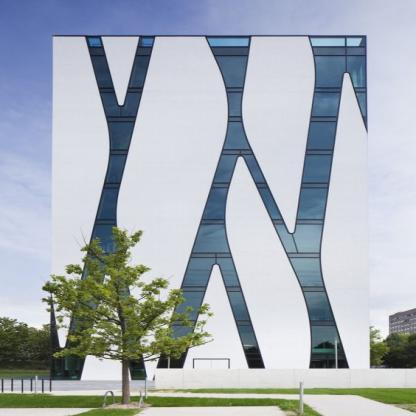Balcony: (53, 36, 367, 47)
Building Outline: (49, 32, 370, 382)
Door: (194, 359, 230, 381)
Facade: (50, 32, 371, 382)
Floor Slab: (52, 353, 370, 358), (52, 286, 369, 291), (52, 219, 368, 224), (53, 149, 367, 154), (53, 87, 367, 92), (53, 50, 367, 55), (52, 322, 370, 326), (52, 253, 369, 257), (53, 183, 368, 187), (53, 117, 367, 121)
Glass Wall: (153, 36, 367, 381), (51, 36, 154, 381)
